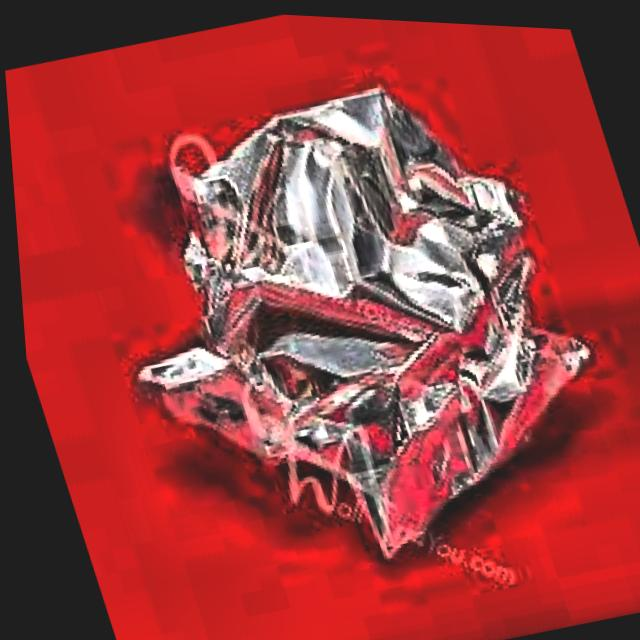Foil: (84, 12, 634, 612)
